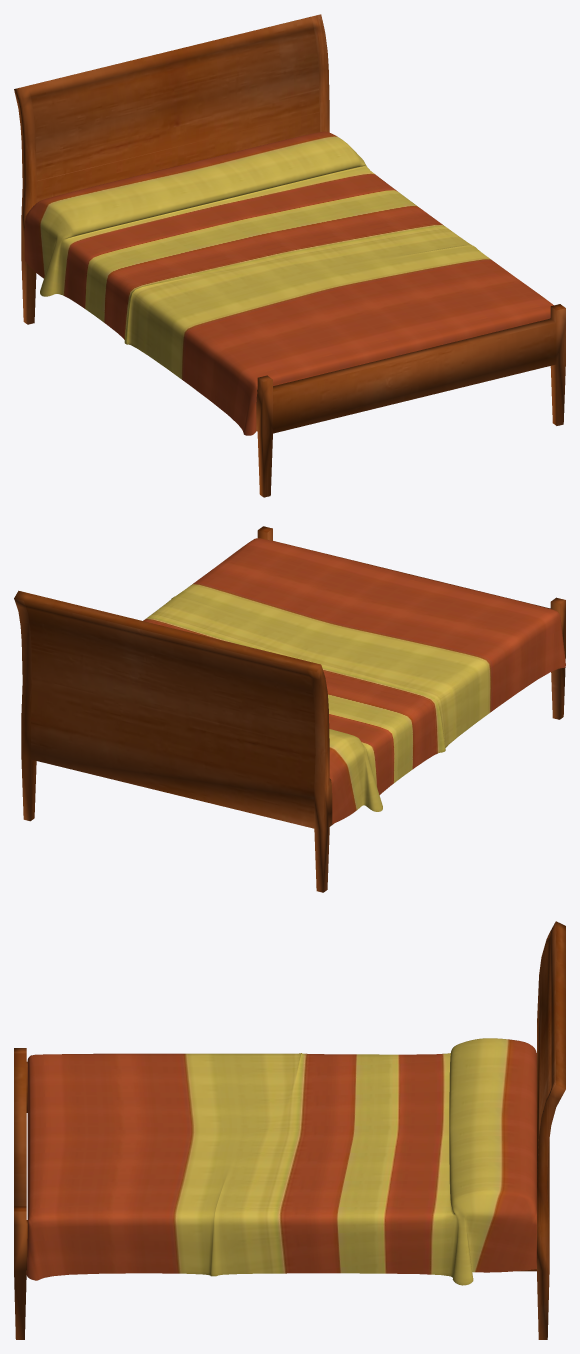
File: sc-bed1.glb
3 views of the same model, one above another, from view 1: azimuth 30°, elevation 25°; view 2: azimuth 150°, elevation 25°; view 3: azimuth 270°, elevation 25° (orthographic). The views are drawn at different scales.
Visible parts, largest first — view 1: Colcha_Plane.002, bed_Plane; view 2: bed_Plane, Colcha_Plane.002; view 3: Colcha_Plane.002, bed_Plane.
Part boxes in pixels (x1,y1,x2,y2): Colcha_Plane.002: (24,131,553,435); bed_Plane: (14,14,565,497); bed_Plane: (14,526,565,892); Colcha_Plane.002: (143,538,565,824); Colcha_Plane.002: (26,1038,536,1285); bed_Plane: (14,921,565,1339).
Bounding box in the file's own units: 1.7 × 1.11 × 2.17.
Materials: 2 (2 with a texture image).
